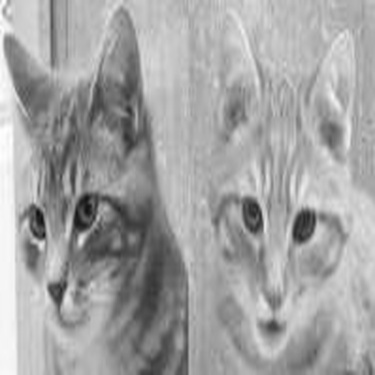cat: (1, 5, 189, 373), (206, 10, 367, 370)
